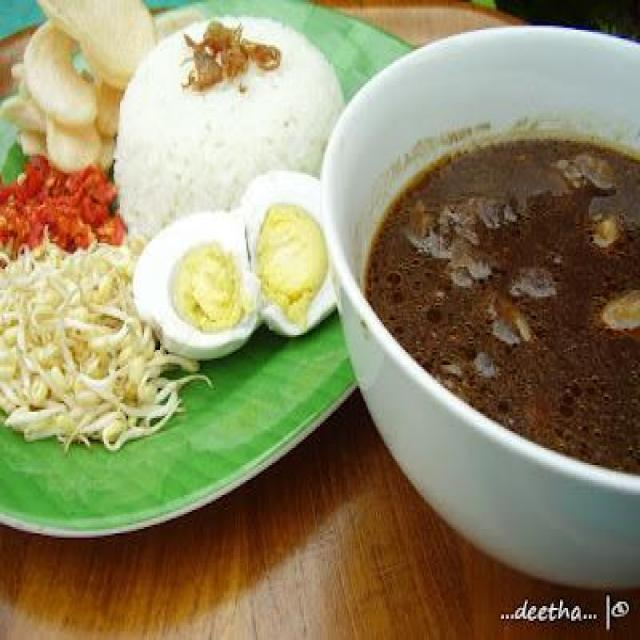Rawon: (366, 104, 640, 487)
